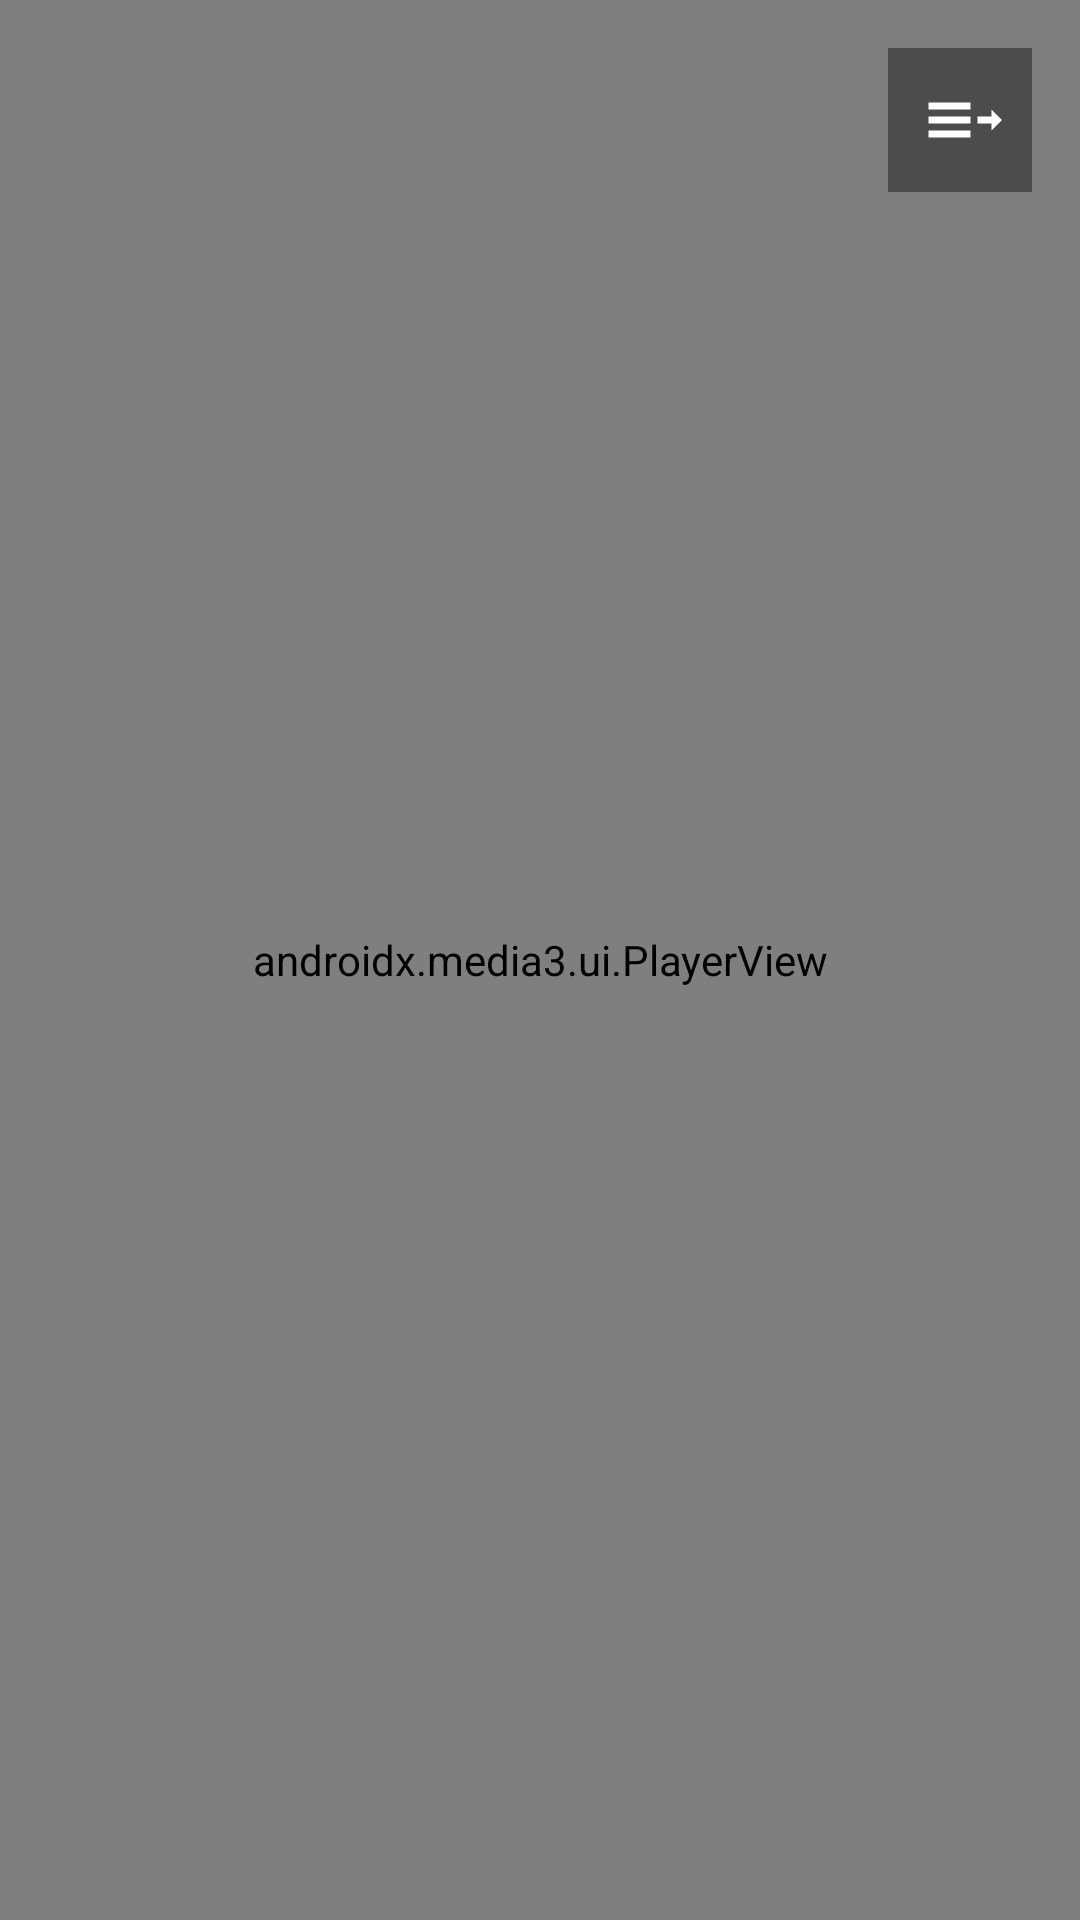

Named icons in this screenshot (1080w x 1920h) and their centers, [x,y]:
Video List: [960,120]
